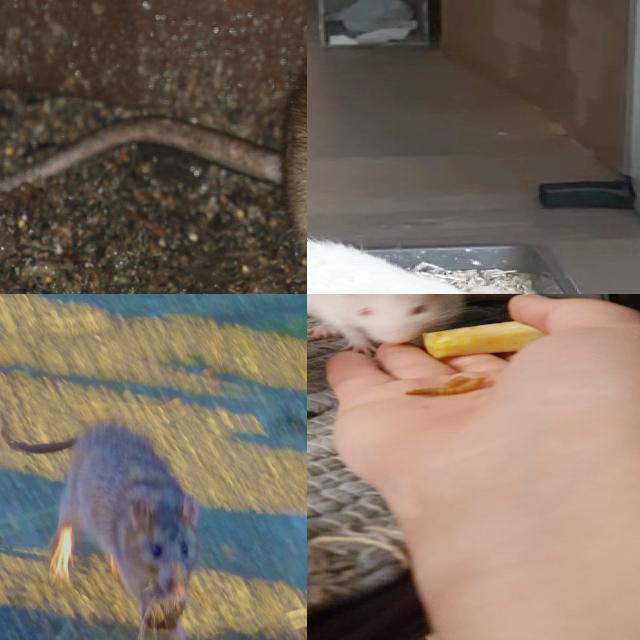rat: (65, 421, 201, 640), (307, 240, 544, 294), (307, 294, 493, 351)
